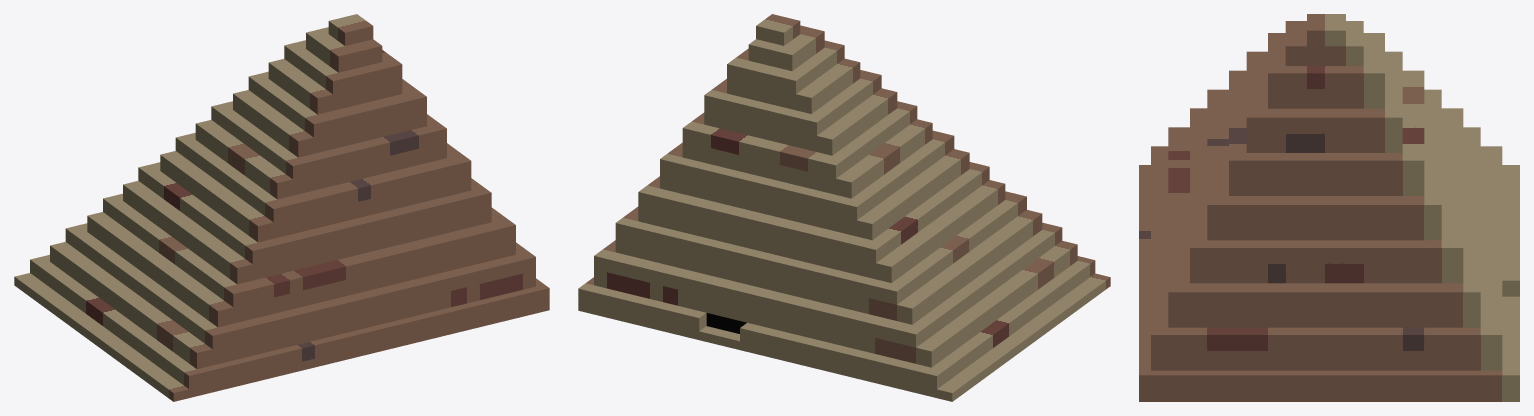
3 renders of one model, left to right at view 1: azimuth 30°, elevation 25°; view 2: azimuth 150°, elevation 25°; view 3: azimuth 270°, elevation 25°, orthographic. The views are drawn at different scales.
Parts seen in each view (by area): view 1: pyramid; view 2: pyramid; view 3: pyramid.
Boxes of the visible parts, x1=… form: pyramid: x1=14, y1=14, x2=549, y2=401; pyramid: x1=578, y1=14, x2=1110, y2=401; pyramid: x1=1139, y1=14, x2=1519, y2=401.
Size of the model in its own units: 1.81 by 1.19 by 1.32.
1 material, 1 textured.
